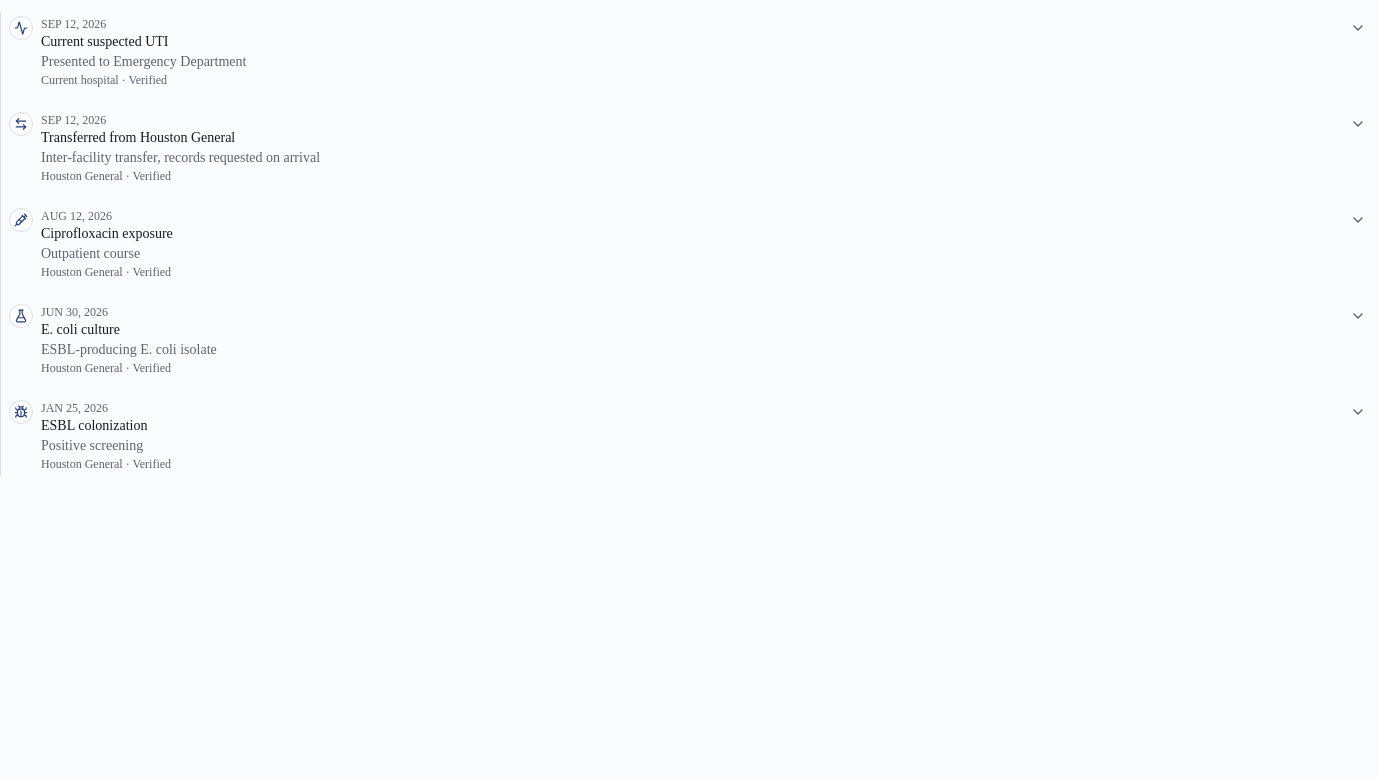
Test case: EvidenceTimeline › renders S/I/R susceptibility results with accessible labels
Click the text "E. coli culture". click: (80, 330)
box: [41, 322, 120, 337]
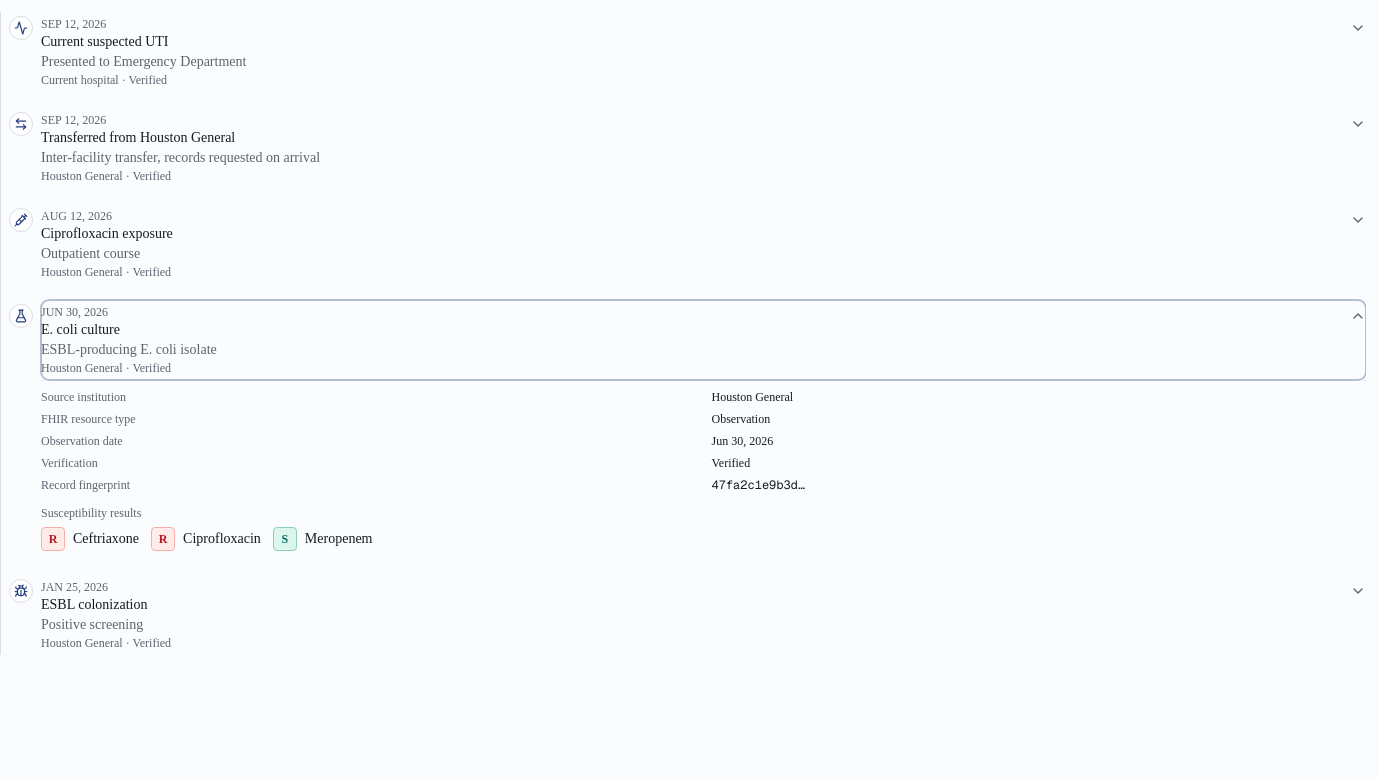
expect the text "R" next to "Ceftriaxone" is shown: met, box [49, 532, 57, 546]
expect the text "S" is shown: met, box [282, 531, 288, 547]
